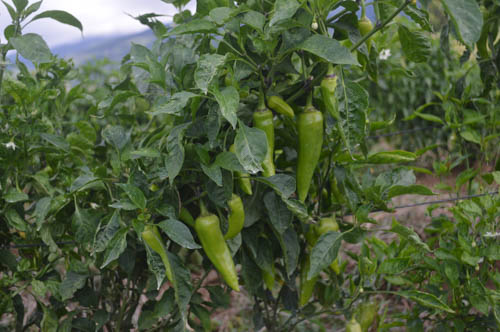ChiliPepper: (193, 216, 239, 289), (294, 111, 324, 202), (251, 110, 277, 176), (140, 227, 172, 278), (227, 146, 251, 192), (220, 197, 244, 239), (321, 78, 339, 113), (271, 94, 294, 114)
